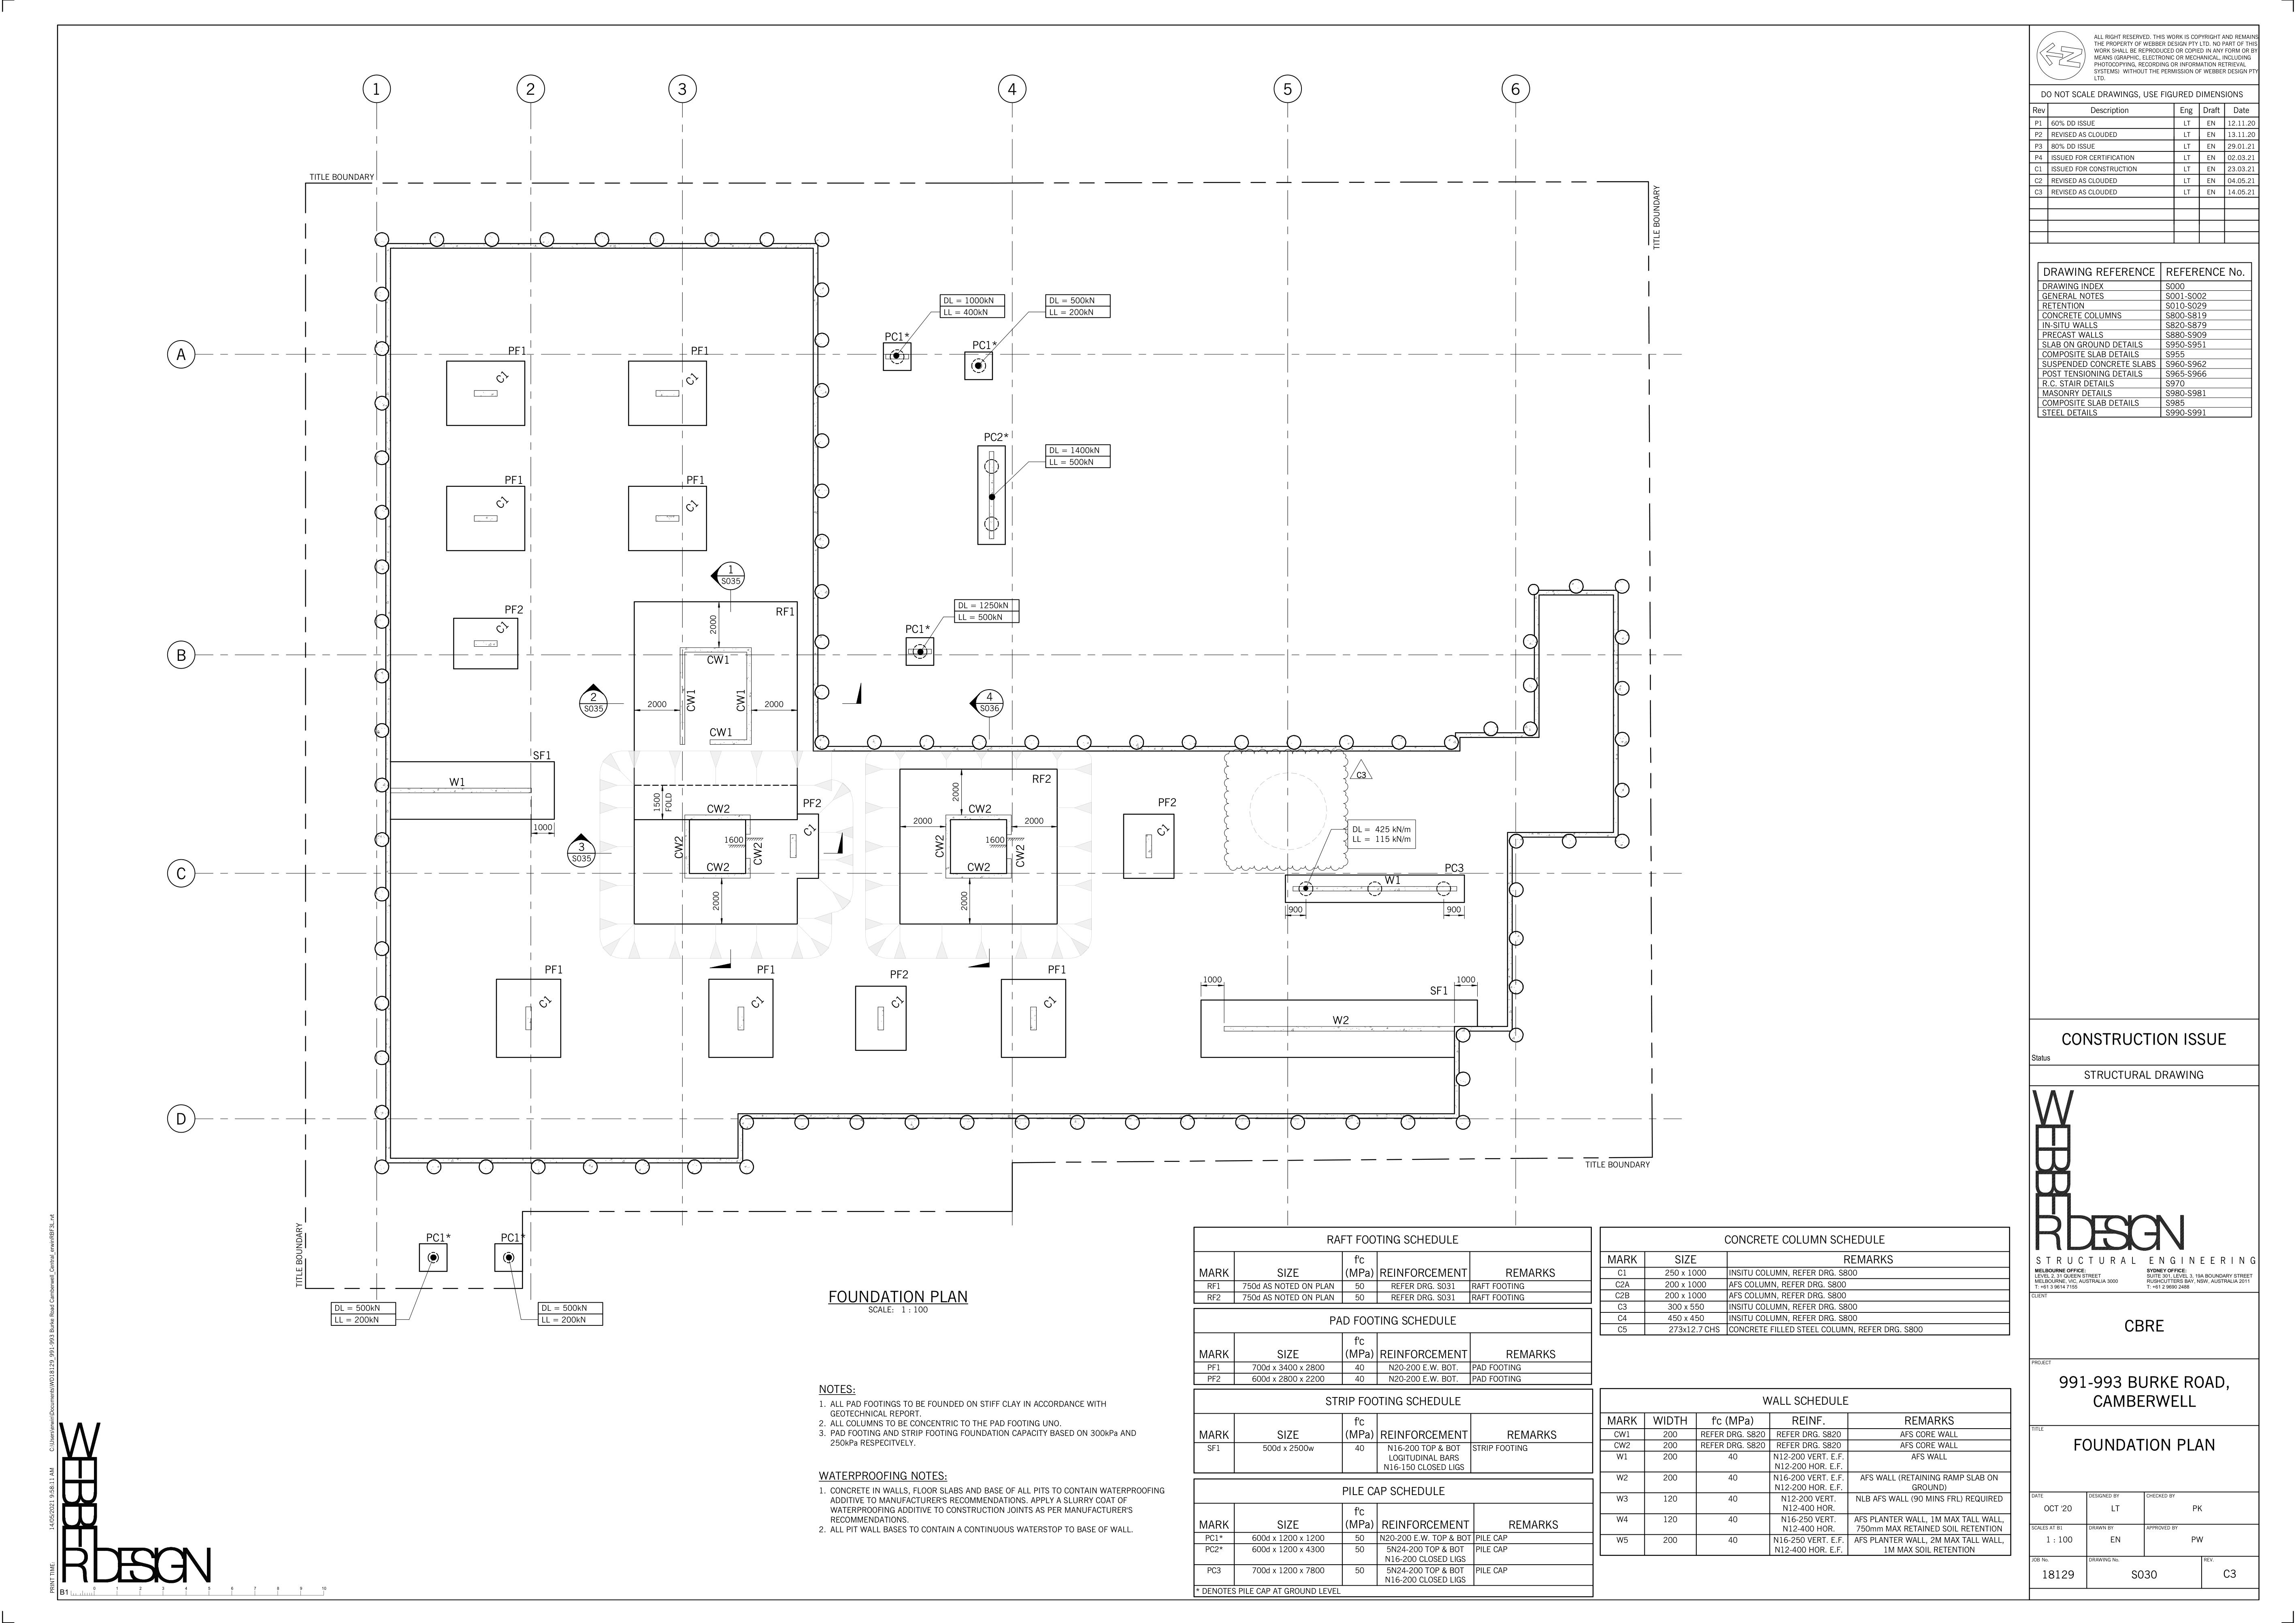C1: (884, 992, 910, 1015), (1152, 817, 1173, 838), (747, 989, 762, 1012), (534, 992, 557, 1005), (1043, 996, 1059, 1013), (803, 824, 820, 838)
C3: (1354, 764, 1374, 787)
CW1: (704, 724, 738, 745), (685, 685, 701, 713), (704, 652, 731, 666), (738, 690, 750, 715)
CW2: (704, 797, 743, 819), (928, 827, 949, 857), (752, 840, 771, 871), (966, 797, 996, 817), (1015, 843, 1035, 873), (704, 857, 734, 875), (669, 838, 687, 862), (968, 857, 993, 873)
PC1*: (422, 1228, 457, 1245), (903, 620, 935, 638), (497, 1228, 527, 1244), (966, 337, 998, 351), (880, 328, 910, 341)
PC2*: (982, 427, 1014, 444)
PC3: (1446, 857, 1470, 876)
PF1: (532, 954, 574, 980), (748, 957, 780, 978), (509, 335, 534, 360), (1043, 959, 1073, 977), (687, 343, 715, 360), (506, 471, 527, 487), (685, 474, 711, 487)
PF2: (882, 963, 915, 982), (506, 599, 529, 617), (805, 797, 827, 815), (1152, 796, 1180, 810)
RF1: (771, 597, 799, 620)
RF2: (1026, 771, 1059, 792)
SF1: (1423, 980, 1449, 999), (532, 745, 553, 762)
W1: (1379, 869, 1405, 887)
W2: (1323, 1012, 1353, 1028)
